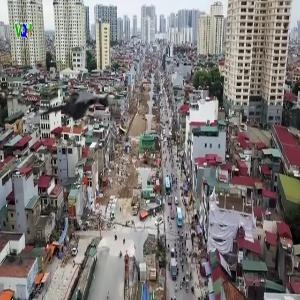drone: (35, 63, 124, 152)
